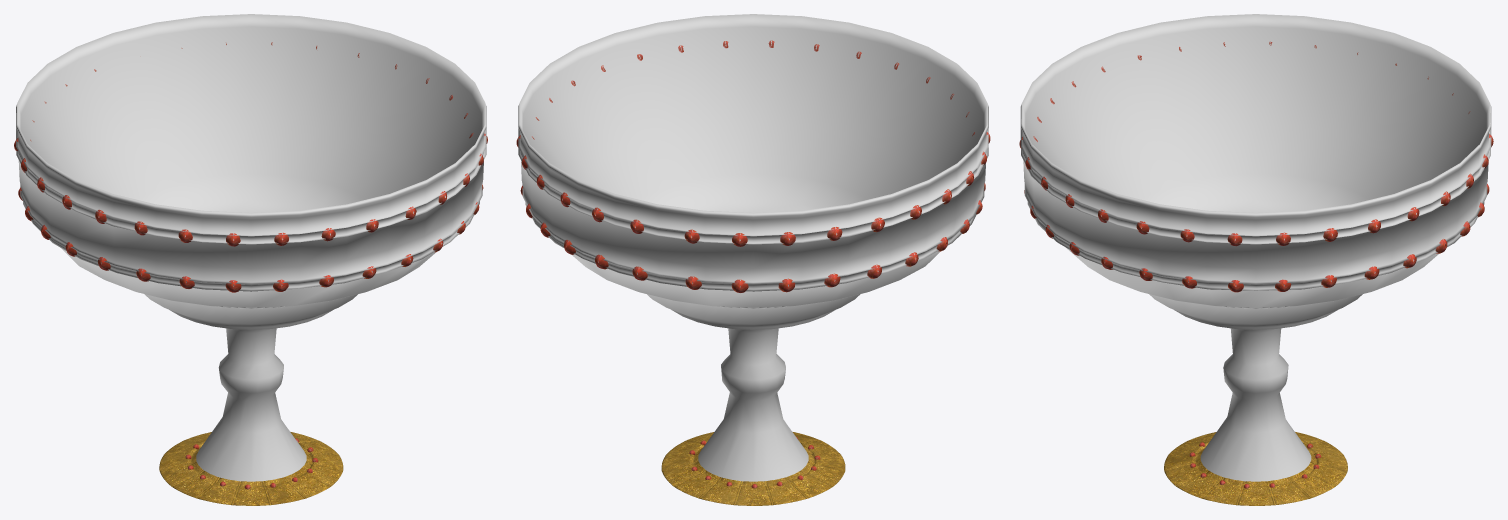
The model's file is chalice.dae.
3 views of the same model, side by side, from view 1: azimuth 30°, elevation 25°; view 2: azimuth 150°, elevation 25°; view 3: azimuth 270°, elevation 25° (orthographic).
Parts seen in each view (by area): view 1: chalice, bottom, rubies1, rubies2; view 2: chalice, bottom, rubies1, rubies2; view 3: chalice, bottom, rubies1, rubies2.
Part boxes in pixels (bbox=[...]): chalice: bbox=[16, 14, 486, 481]; bottom: bbox=[159, 432, 343, 505]; rubies1: bbox=[14, 42, 487, 246]; rubies2: bbox=[18, 184, 483, 292]; chalice: bbox=[518, 14, 988, 481]; bottom: bbox=[661, 432, 845, 505]; rubies1: bbox=[516, 40, 990, 246]; rubies2: bbox=[520, 183, 985, 292]; chalice: bbox=[1020, 14, 1491, 481]; bottom: bbox=[1164, 432, 1347, 505]; rubies1: bbox=[1019, 41, 1493, 246]; rubies2: bbox=[1024, 184, 1489, 292].
Bounding box in the file's own units: 0.475 × 0.4756 × 0.392.
3 materials, 2 textured.
